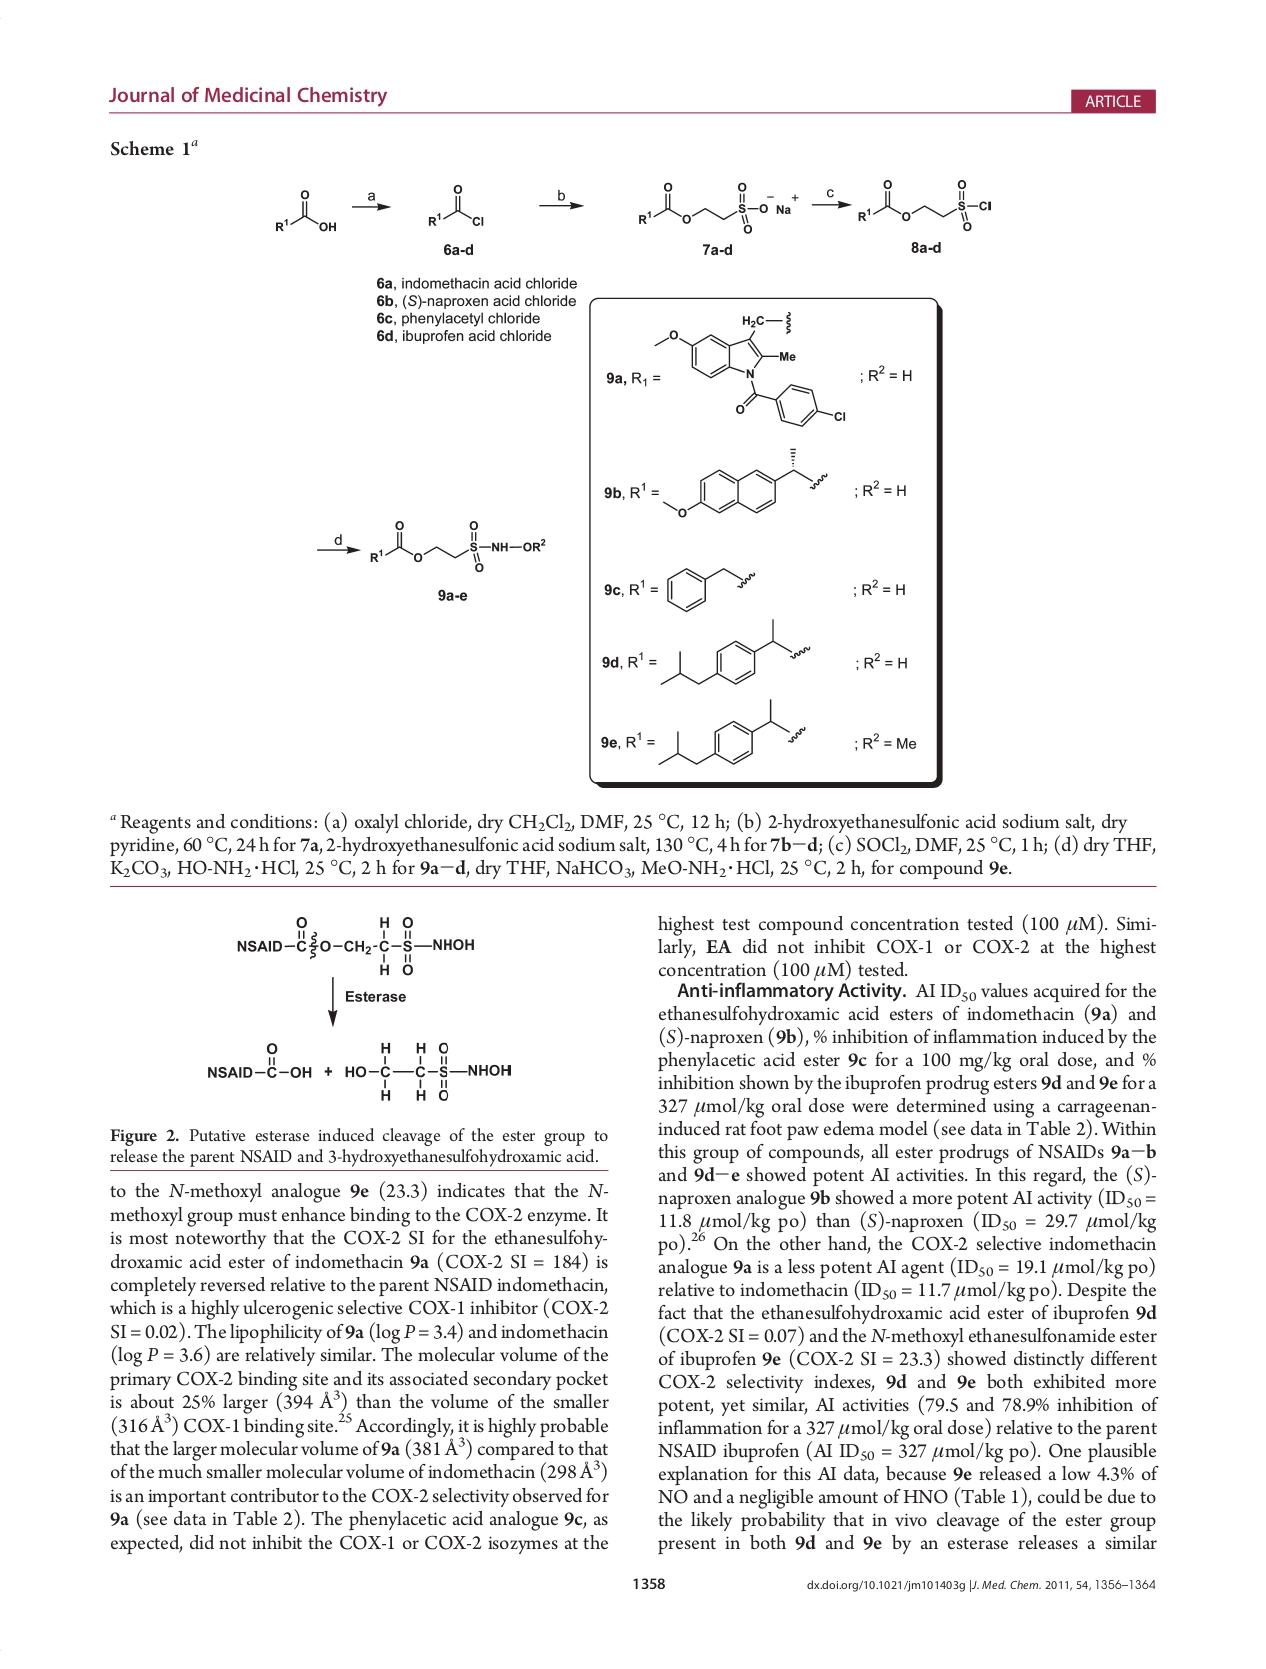exist_molecular: (650, 311, 848, 431), (233, 904, 477, 977), (662, 446, 836, 523), (339, 1033, 523, 1104), (367, 515, 548, 580), (656, 696, 810, 767), (660, 618, 815, 686), (633, 178, 801, 237), (852, 172, 995, 231), (662, 559, 755, 618), (203, 1035, 313, 1084), (259, 182, 338, 242), (424, 176, 492, 231)
